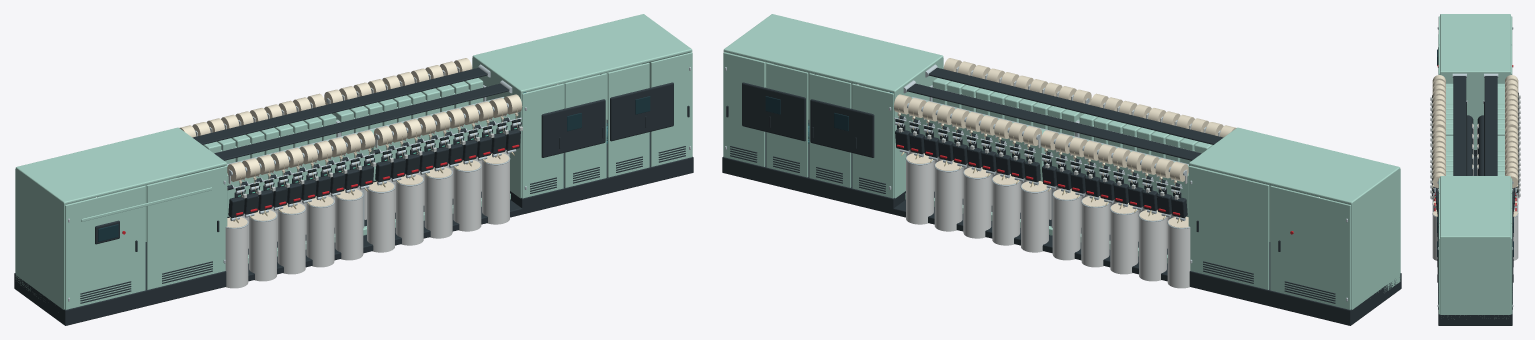
Rendered from rieter_r_37.glb.
The picture shows the model from 3 angles, left to right: view 1: azimuth 30°, elevation 25°; view 2: azimuth 150°, elevation 25°; view 3: azimuth 270°, elevation 25°; orthographic projection. The views are drawn at different scales.
Visible parts, largest first — view 1: R37_tail_roof, R37_head_roof, cabinet_door.001, cabinet_door, R37_head_end_wall, cabinet_door.007, cabinet_door.004, R37_tail_base, transport_belt, transport_belt.001, R37_head_base, cabinet_door.006 (+16 smaller); view 2: R37_tail_roof, cabinet_door.003, cabinet_door.002, R37_head_roof, R37_head_end_wall, cabinet_door.011, cabinet_door.008, foundation, transport_belt, transport_belt.001, cabinet_door.010, R37_head_base (+15 smaller); view 3: R37_tail_end_wall.001, R37_tail_roof, R37_head_roof, transport_belt, transport_belt.001, R37_head_end_wall.001, R37_tail_base, main_duct, main_duct.001, foundation, round_can.018, round_can.038 (+42 smaller).
Part boxes in pixels (<box>): R37_tail_roof: <box>472,14,691,92</box>; R37_head_roof: <box>16,127,226,204</box>; cabinet_door.001: <box>146,166,227,289</box>; cabinet_door: <box>65,185,145,309</box>; R37_head_end_wall: <box>15,168,65,309</box>; cabinet_door.007: <box>650,52,692,166</box>; cabinet_door.004: <box>522,83,563,198</box>; R37_tail_base: <box>510,132,693,213</box>; transport_belt: <box>214,83,508,160</box>; transport_belt.001: <box>192,67,487,144</box>; R37_head_base: <box>14,242,226,324</box>; cabinet_door.006: <box>607,62,649,177</box>; R37_tail_roof: <box>724,14,943,92</box>; cabinet_door.003: <box>1188,166,1269,289</box>; cabinet_door.002: <box>1270,185,1350,309</box>; R37_head_roof: <box>1189,127,1399,204</box>; R37_head_end_wall: <box>1350,168,1400,309</box>; cabinet_door.011: <box>723,52,765,166</box>; cabinet_door.008: <box>852,83,893,198</box>; foundation: <box>722,167,1401,325</box>; transport_belt: <box>928,67,1223,144</box>; transport_belt.001: <box>907,83,1201,160</box>; cabinet_door.010: <box>766,62,808,177</box>; R37_head_base: <box>1189,242,1401,325</box>; R37_tail_end_wall.001: <box>1440,237,1510,319</box>; R37_tail_roof: <box>1440,176,1510,238</box>; R37_head_roof: <box>1440,14,1510,72</box>; transport_belt: <box>1453,76,1466,175</box>; transport_belt.001: <box>1484,76,1497,175</box>; R37_head_end_wall.001: <box>1440,72,1510,149</box>; R37_tail_base: <box>1438,310,1512,325</box>; main_duct: <box>1467,115,1473,175</box>; main_duct.001: <box>1477,115,1483,175</box>; foundation: <box>1438,156,1512,325</box>; round_can.018: <box>1432,215,1437,260</box>; round_can.038: <box>1513,215,1518,260</box>.
Bounding box in the file's own units: 10.06 × 1.89 × 1.73.
